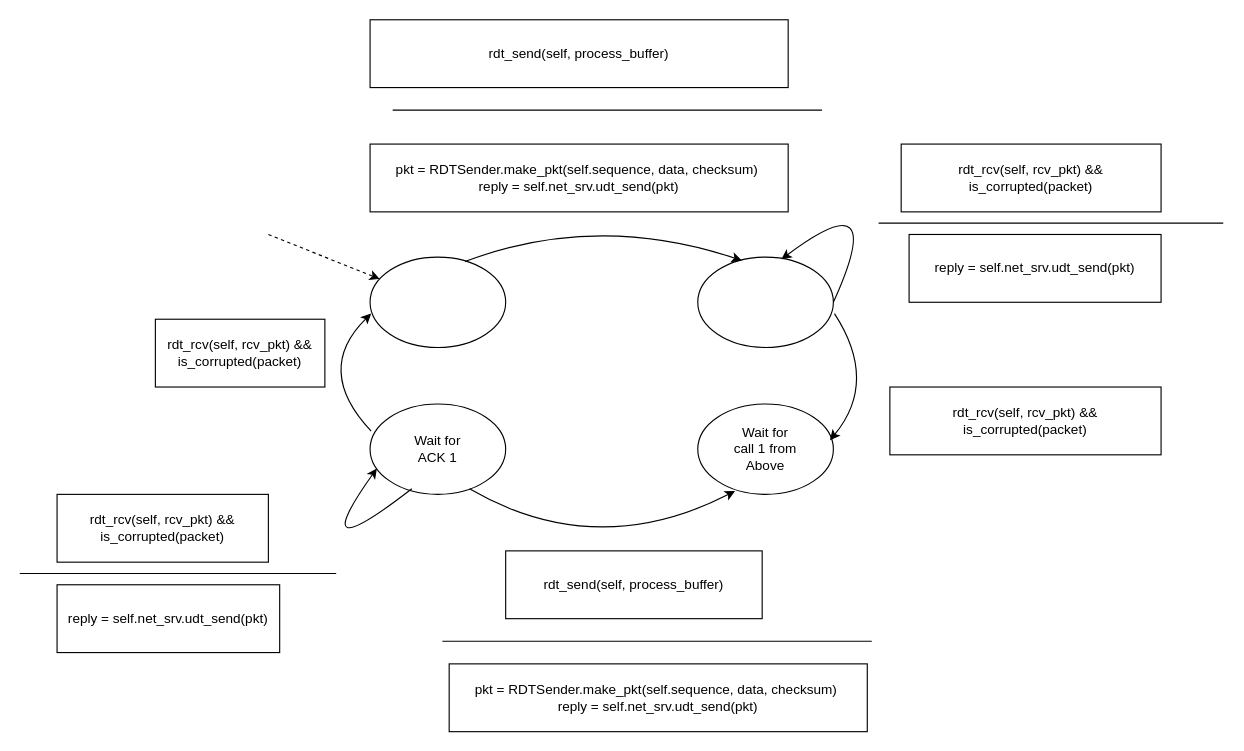
Some shapes in this 1244 by 751 pixel diagram are drawn without their labels. Each missing label, with the centre of its shape:
"Wait for ACK 0" goes at pixel 765 301.
"Wait for call 0 from Above" goes at pixel 437 301.
